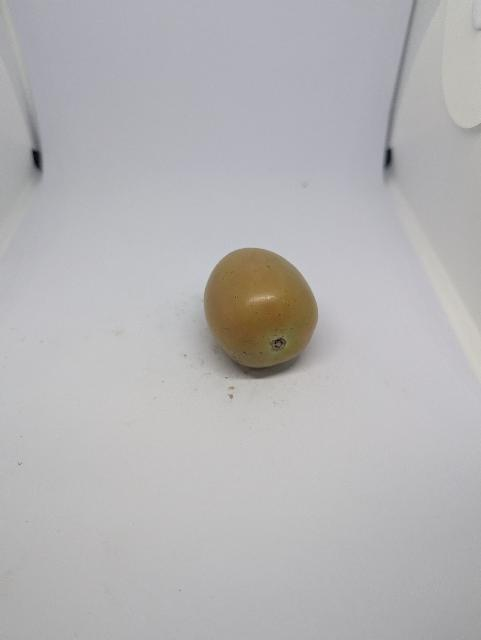turning: (198, 239, 323, 381)
